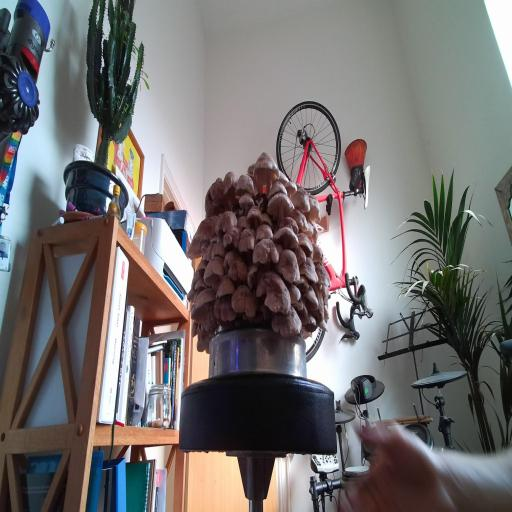Shiitake Mushroom: (243, 262, 307, 323), (242, 145, 290, 201), (256, 183, 304, 228), (182, 279, 223, 330), (272, 243, 307, 288), (194, 251, 234, 289), (266, 219, 307, 255), (201, 171, 228, 224), (228, 280, 261, 322), (294, 252, 325, 293), (270, 303, 303, 341), (207, 205, 244, 238), (290, 227, 322, 261), (286, 202, 315, 238), (273, 165, 302, 200), (189, 214, 224, 243), (216, 244, 248, 274), (183, 232, 208, 268), (301, 192, 325, 227), (251, 237, 281, 264), (300, 283, 323, 317), (289, 293, 313, 325), (235, 188, 259, 219), (197, 306, 220, 337), (213, 294, 236, 324), (310, 280, 325, 324), (244, 201, 265, 232), (290, 187, 312, 214), (293, 271, 315, 297), (199, 239, 221, 265), (191, 321, 212, 348), (313, 261, 333, 287), (215, 273, 236, 297), (222, 225, 242, 250), (244, 260, 260, 290), (265, 179, 289, 199), (189, 274, 211, 295), (228, 259, 248, 282), (277, 215, 301, 234), (282, 175, 301, 199), (238, 227, 255, 253), (193, 255, 210, 281), (245, 169, 262, 195), (236, 173, 256, 195), (223, 171, 238, 199), (301, 218, 319, 241), (288, 280, 303, 307), (292, 242, 308, 267), (254, 222, 275, 241), (196, 333, 213, 355), (296, 324, 314, 343), (258, 210, 278, 227), (197, 235, 212, 257), (311, 243, 325, 265), (236, 213, 252, 232), (320, 281, 332, 305), (186, 271, 202, 289), (317, 317, 332, 335), (298, 310, 316, 325), (212, 241, 226, 257), (190, 320, 199, 339), (311, 221, 319, 241), (209, 232, 219, 245), (187, 287, 195, 301), (247, 163, 256, 175), (324, 304, 330, 322)
